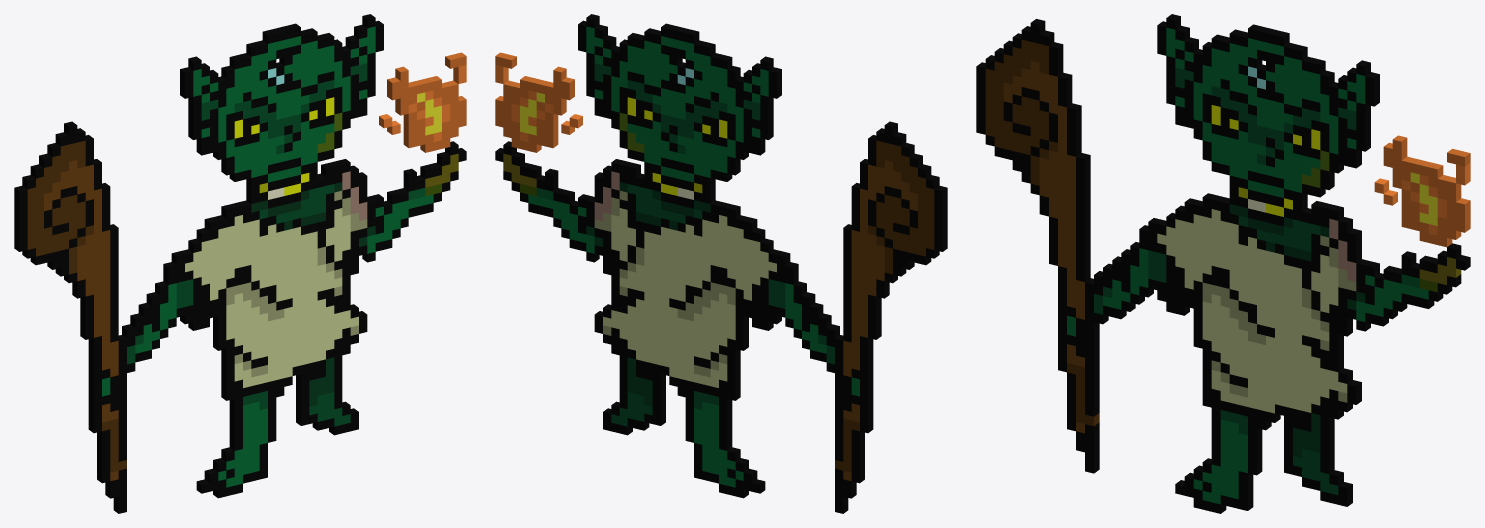
Rendered from GobMagah.fbx.
The picture shows the model from 3 angles, left to right: view 1: azimuth 30°, elevation 25°; view 2: azimuth 150°, elevation 25°; view 3: azimuth 330°, elevation 25°; orthographic projection. The views are drawn at different scales.
Parts seen in each view (by area): view 1: Curve.145; view 2: Curve.145; view 3: Curve.145.
Part boxes in pixels (x1,y1,x2,y2): Curve.145: (14,14,466,513); Curve.145: (495,14,947,513); Curve.145: (976,14,1470,513).
Bounding box in the file's own units: 45.72 × 44.02 × 0.9.
